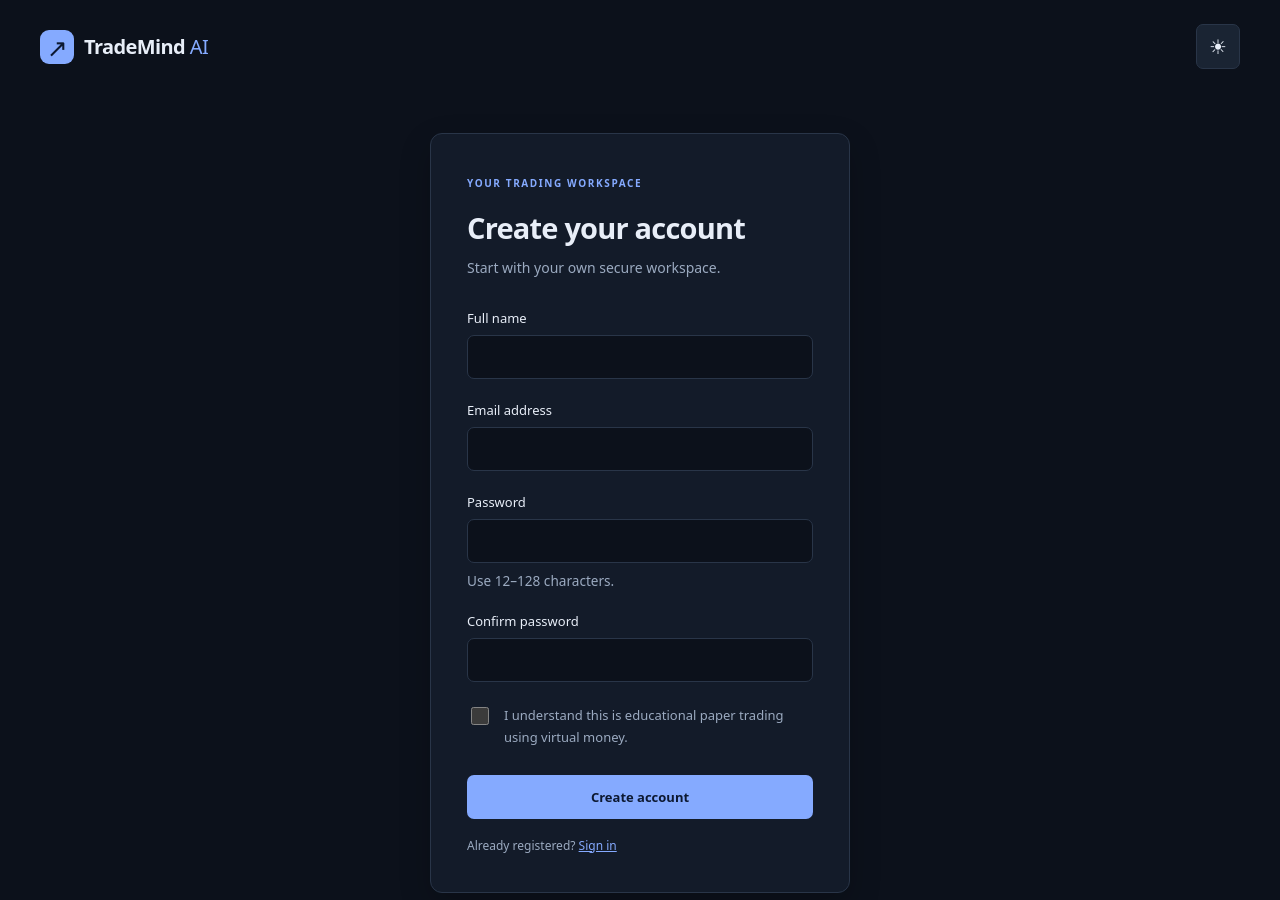
Test: auth forms and protected routes › validates password confirmation and acknowledgement before registration
The image size is (1280, 900).
Type "Alice" into the field labelled "Full name" at [640, 357], box x1=467 y1=335 x2=813 y2=379
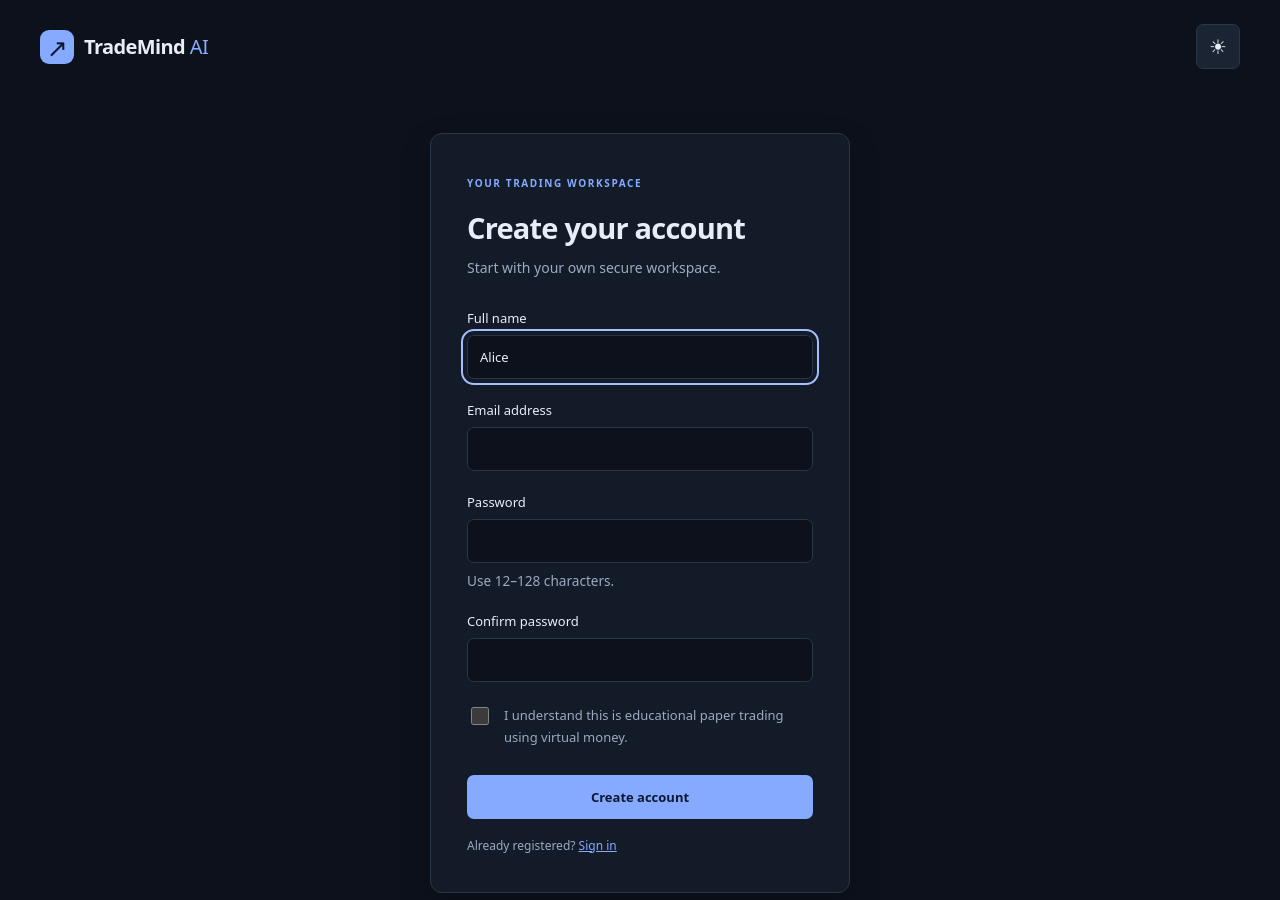
Type "alice@example.com" into the field labelled "Email address" at [640, 449], box x1=467 y1=427 x2=813 y2=471
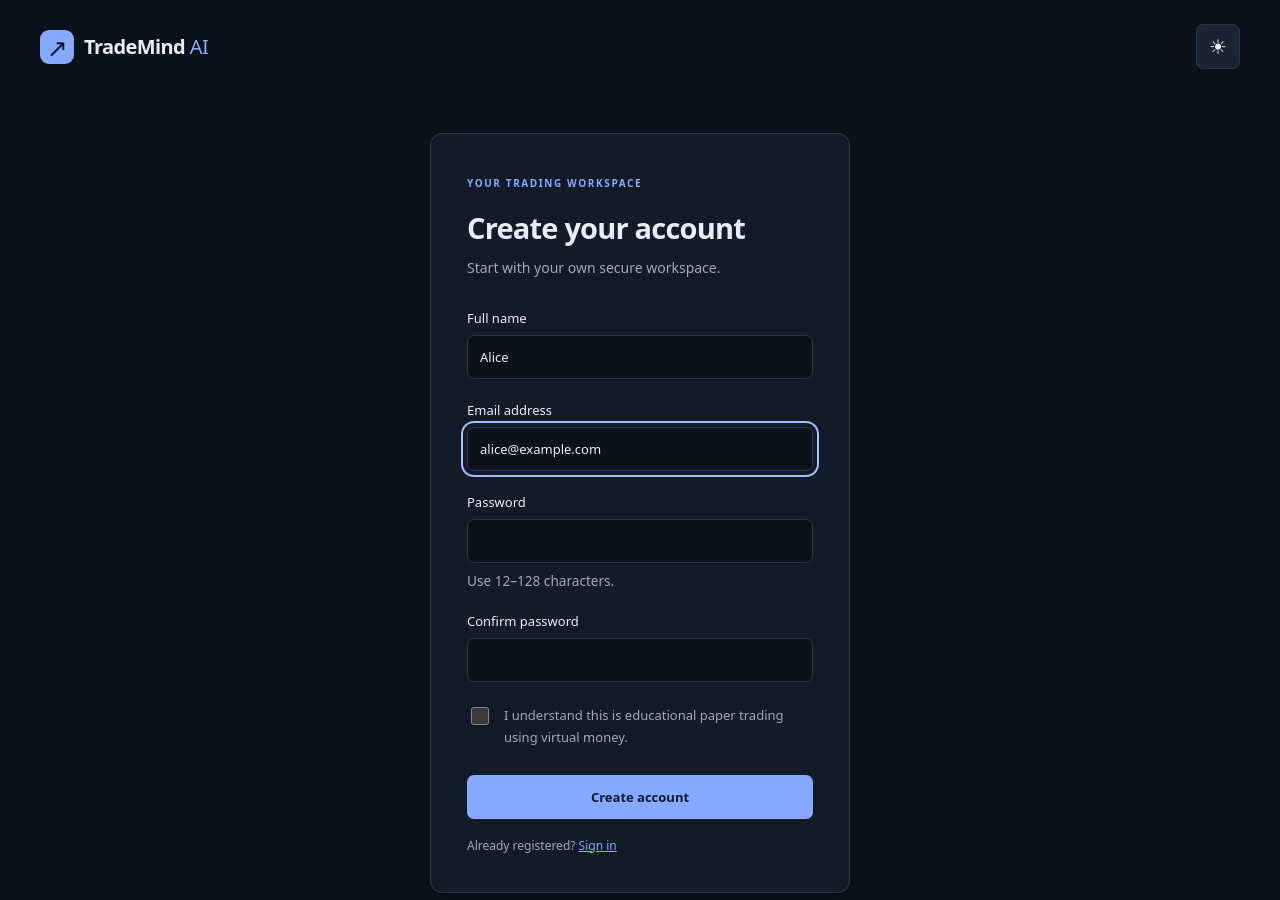
Type "long password" into the password field labelled "Password" at [640, 541], box x1=467 y1=519 x2=813 y2=563
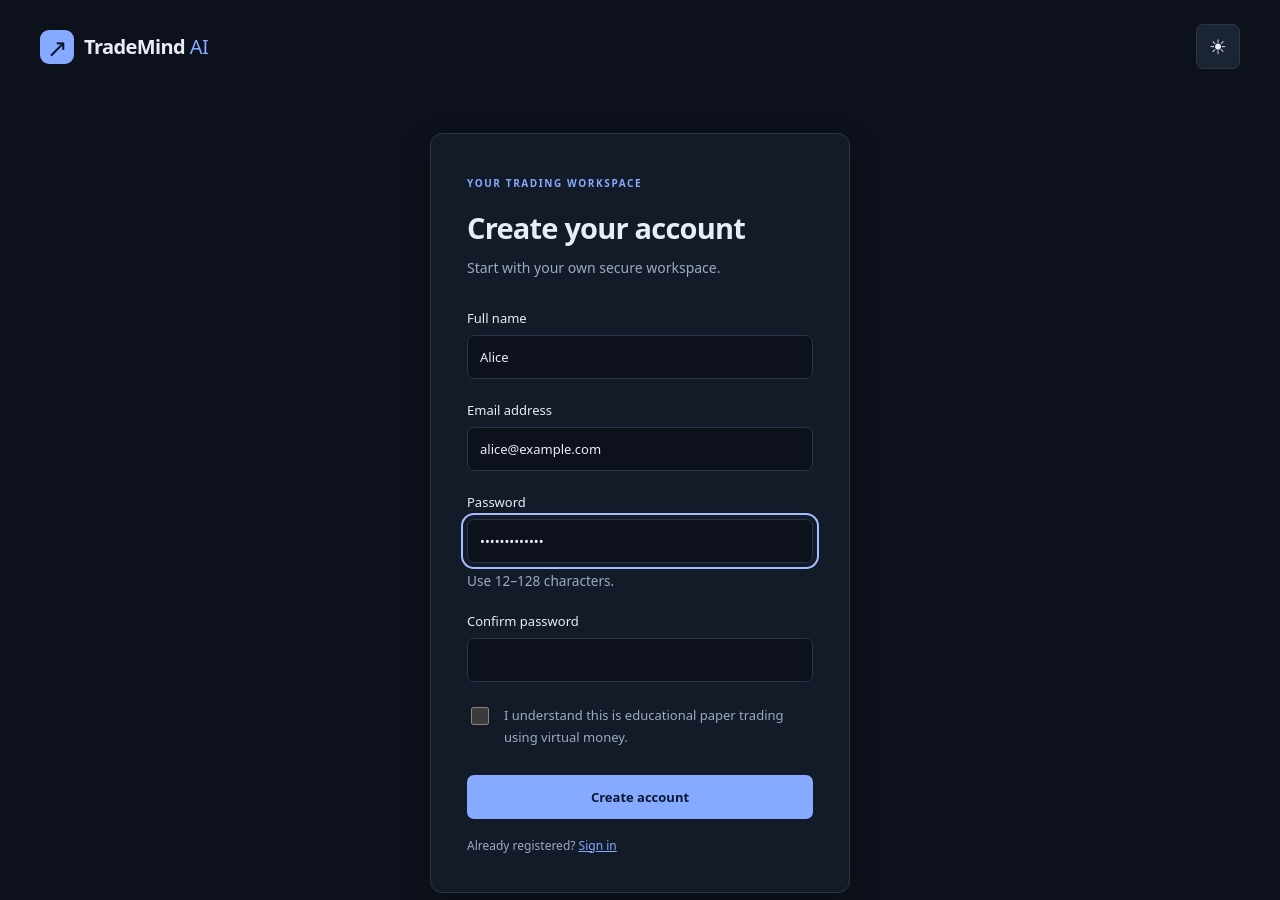
Type "different password" into the password field labelled "Confirm password" at [640, 660], box x1=467 y1=638 x2=813 y2=682
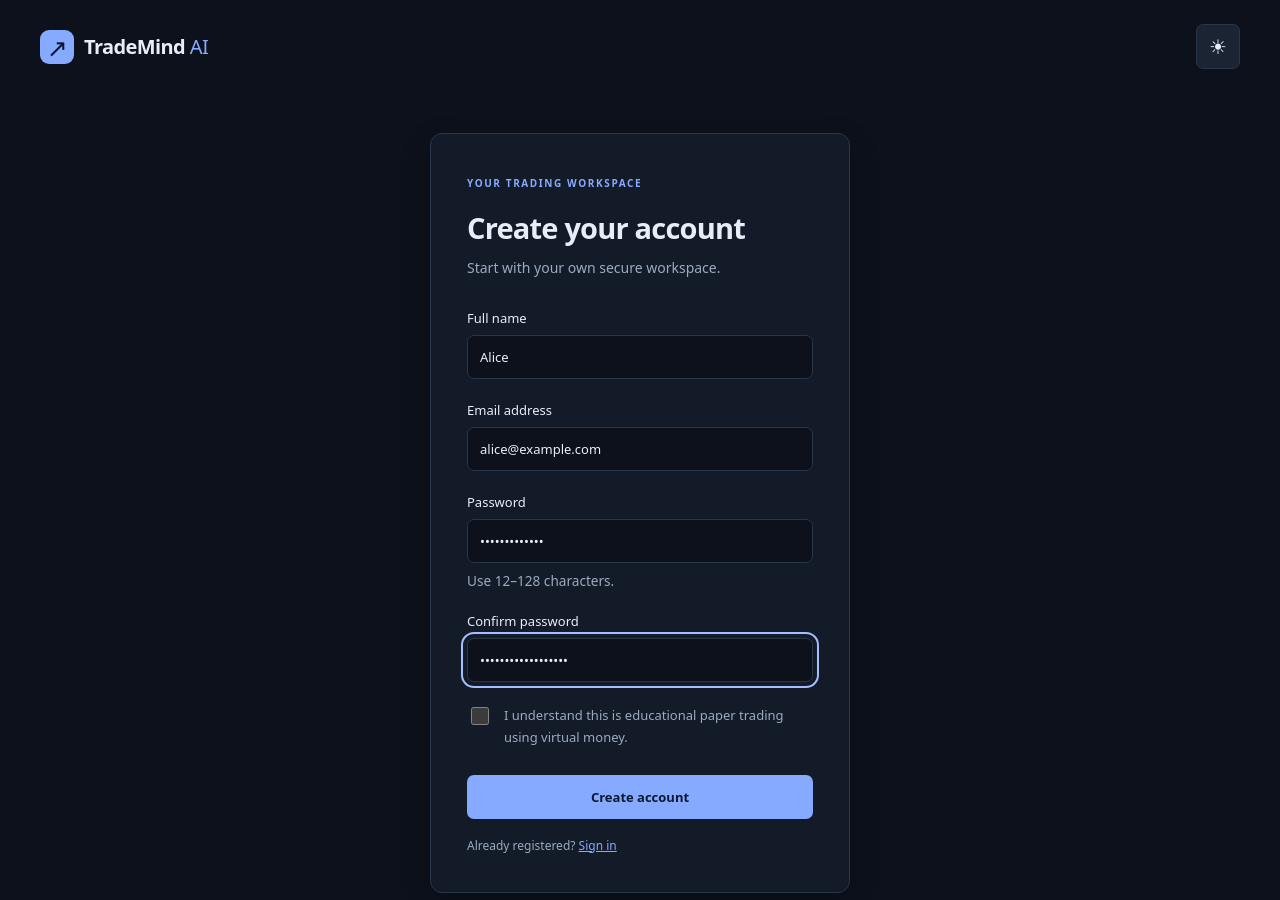
Click the button "Create account" at [640, 797], box x1=467 y1=775 x2=813 y2=819
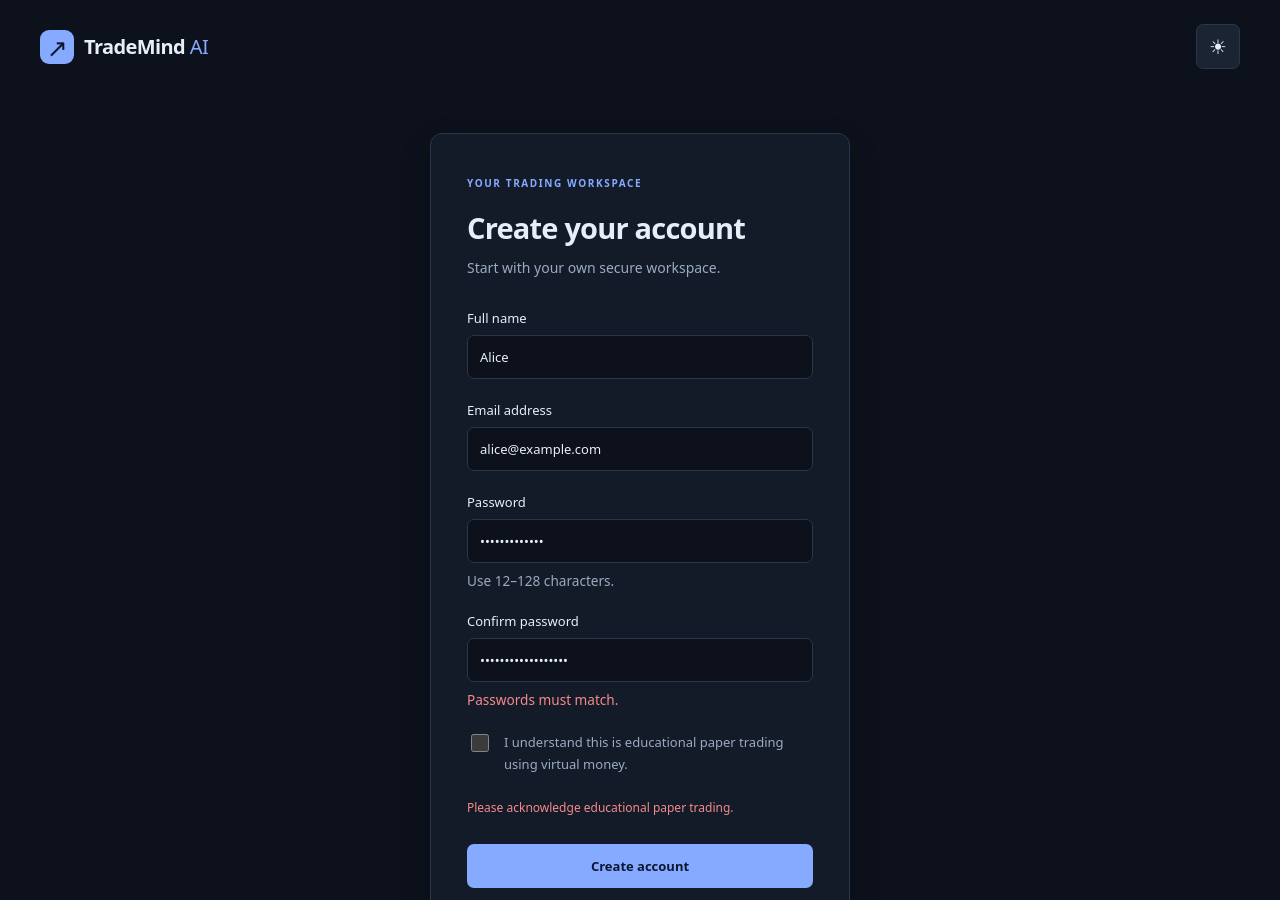
Check: the text "Passwords must match." is shown, box x1=467 y1=690 x2=618 y2=709
Check: the text "Please acknowledge educational paper trading." is shown, box x1=467 y1=799 x2=734 y2=816
